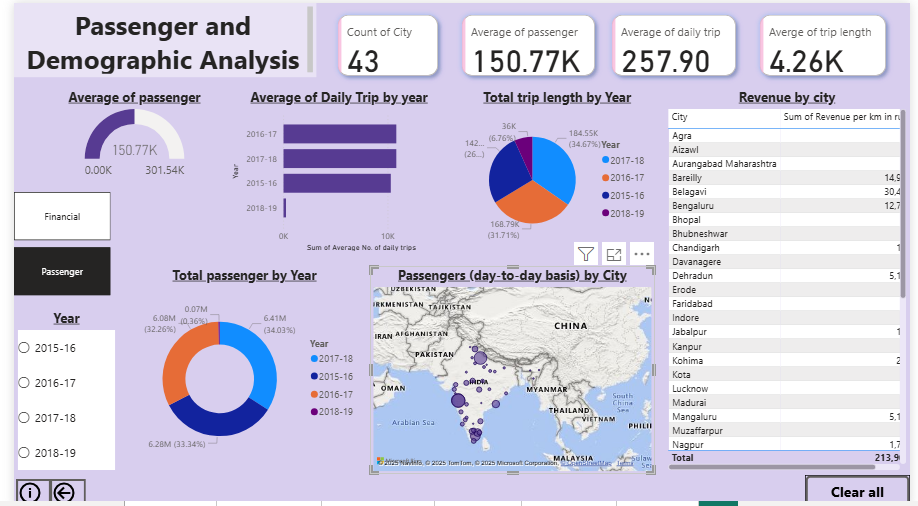

What the dashboard file says about the page in this screenshot:
{"tool":"powerbi","page":{"name":"Passenger","canvas":[1280,720],"ordinal":4},"visuals":[{"type":"cardVisual","fields":{"Data":["passenger measure.Average of passenger"]},"box":[622.9,0,224.3,121.4],"z":0},{"type":"textbox","box":[0,0,432.3,106.3],"z":1000},{"type":"cardVisual","fields":{"Data":["daily trip.Average of daily trip"]},"box":[837.1,0,211.4,121.4],"z":2000},{"type":"cardVisual","fields":{"Data":["trip length measure.Averge of trip length"]},"box":[1048.6,0,214.3,121.4],"z":3000},{"type":"gauge","fields":{"Y":["passenger measure.Average of passenger"]},"box":[58.6,121.4,227.1,137.1],"z":4000},{"type":"pieChart","fields":{"Category":["busestable.Year"],"Y":["trip length measure.Total trip length"]},"box":[637.8,121.9,277.8,238.1],"z":5000},{"type":"clusteredBarChart","title":"Average of Daily Trip by year","fields":{"Category":["busestable.Year"],"Y":["Sum(busestable.Average No. of daily trips)"]},"box":[306.1,121.9,317.5,238.1],"z":6000},{"type":"map","title":"Passengers (day-to-day basis) by City","fields":{"Category":["busestable.City"],"Size":["Sum(busestable.Average No. of passengers (day-to-day basis))"]},"box":[508.8,375.6,406.8,297.6],"z":7000},{"type":"donutChart","fields":{"Category":["busestable.Year"],"Y":["passenger measure.Total passenger"]},"box":[160.2,375.6,338.7,297.6],"z":8000},{"type":"tableEx","title":"Revenue by city","fields":{"Values":["busestable.City","Sum(busestable.Revenue per km in rupees)"]},"box":[928.6,121.4,351.4,551.4],"z":9000},{"type":"pageNavigator","box":[0,270.7,138.9,148.8],"z":10000},{"type":"listSlicer","fields":{"Values":["busestable.Year"]},"box":[0,436.5,150.2,236.7],"z":11000},{"type":"actionButton","box":[1130,674.3,150,45.7],"z":12000},{"type":"actionButton","box":[2.9,680,50,40],"z":13000},{"type":"actionButton","box":[51.4,680,51.4,40],"z":14000},{"type":"cardVisual","fields":{"Data":["busestable.Count of City"]},"box":[445.7,0,177.1,121.4],"z":15000}]}

Visuals, with their boxes in screenshot pixels (x1, y1, x2, y2), scaled from the page's 1280x720 canvas onto the 918x506 screenshot:
cardVisual - passenger measure.Average of passenger: {"left": 447, "top": 0, "right": 608, "bottom": 85}
textbox: {"left": 0, "top": 0, "right": 310, "bottom": 75}
cardVisual - daily trip.Average of daily trip: {"left": 600, "top": 0, "right": 752, "bottom": 85}
cardVisual - trip length measure.Averge of trip length: {"left": 752, "top": 0, "right": 906, "bottom": 85}
gauge - passenger measure.Average of passenger: {"left": 42, "top": 85, "right": 205, "bottom": 182}
pieChart - busestable.Year x trip length measure.Total trip length: {"left": 457, "top": 86, "right": 657, "bottom": 253}
"Average of Daily Trip by year" clusteredBarChart: {"left": 220, "top": 86, "right": 447, "bottom": 253}
"Passengers (day-to-day basis) by City" map: {"left": 365, "top": 264, "right": 657, "bottom": 473}
donutChart - busestable.Year x passenger measure.Total passenger: {"left": 115, "top": 264, "right": 358, "bottom": 473}
"Revenue by city" tableEx: {"left": 666, "top": 85, "right": 917, "bottom": 473}
pageNavigator: {"left": 0, "top": 190, "right": 100, "bottom": 295}
listSlicer - busestable.Year: {"left": 0, "top": 307, "right": 108, "bottom": 473}
actionButton: {"left": 810, "top": 474, "right": 917, "bottom": 505}
actionButton: {"left": 2, "top": 478, "right": 38, "bottom": 505}
actionButton: {"left": 37, "top": 478, "right": 74, "bottom": 505}
cardVisual - busestable.Count of City: {"left": 320, "top": 0, "right": 447, "bottom": 85}
